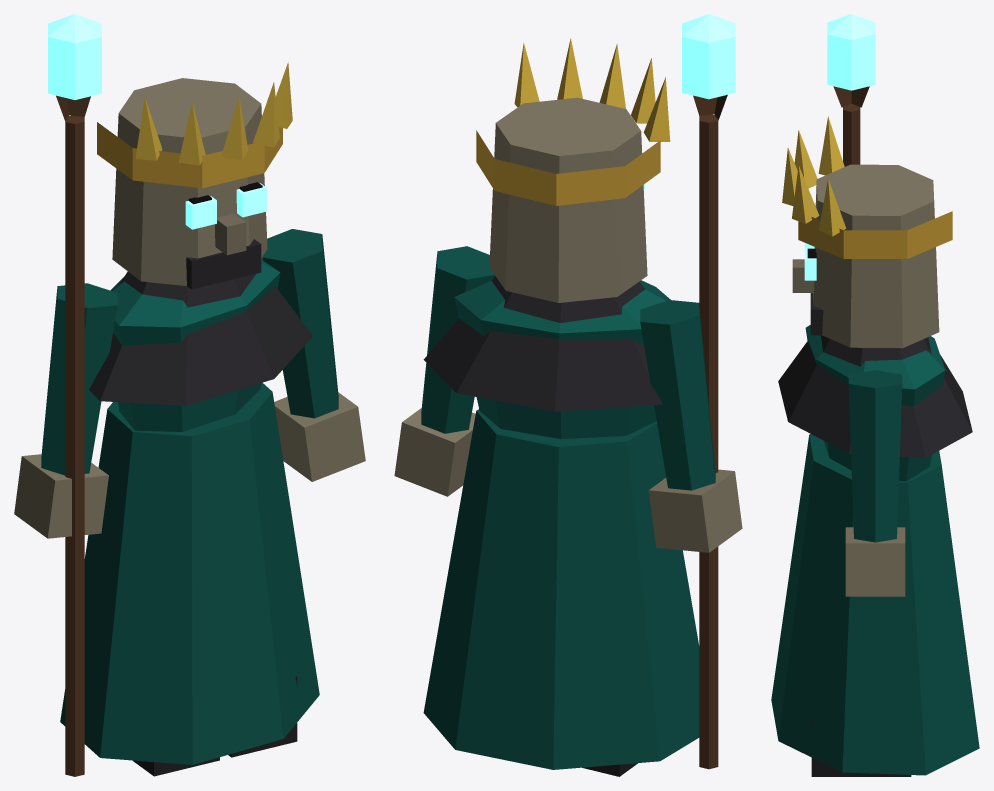
File: lich.glb
3 views of the same model, side by side, from view 1: azimuth 30°, elevation 25°; view 2: azimuth 150°, elevation 25°; view 3: azimuth 270°, elevation 25° (orthographic). The views are drawn at different scales.
Parts seen in each view (by area): view 1: lich_torso, lich_head, lich_staff, lich_arm_l, lich_arm_r, lich_leg_r; view 2: lich_torso, lich_head, lich_arm_r, lich_staff, lich_arm_l; view 3: lich_torso, lich_head, lich_arm_l, lich_staff, lich_leg_l.
Part boxes in pixels (x1,y1,x2,y2): lich_torso: (60,257,319,764); lich_head: (97,62,292,289); lich_staff: (48,14,101,776); lich_arm_l: (262,229,365,481); lich_arm_r: (14,283,117,538); lich_leg_r: (132,757,219,776); lich_torso: (423,276,699,769); lich_head: (476,38,670,302); lich_arm_r: (640,300,742,552); lich_staff: (682,14,735,769); lich_arm_l: (394,246,495,496); lich_torso: (771,325,979,775); lich_head: (782,116,952,348); lich_arm_l: (845,370,905,596); lich_staff: (827,14,875,166); lich_leg_l: (811,718,911,776).
Bounding box in the file's own units: 0.9195 × 2.1 × 0.5864.
